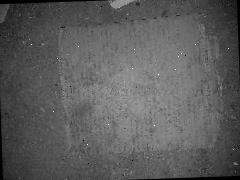paper: (56, 12, 226, 157), (108, 0, 138, 10), (0, 4, 11, 23)
